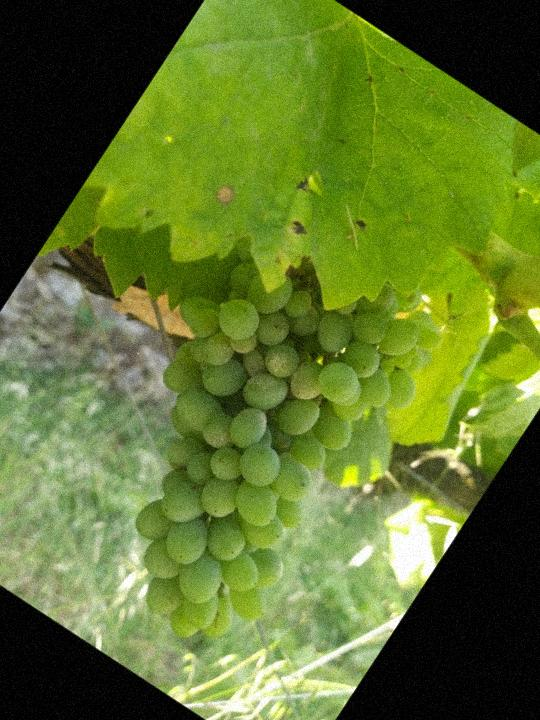grape: (26, 184, 468, 675)
